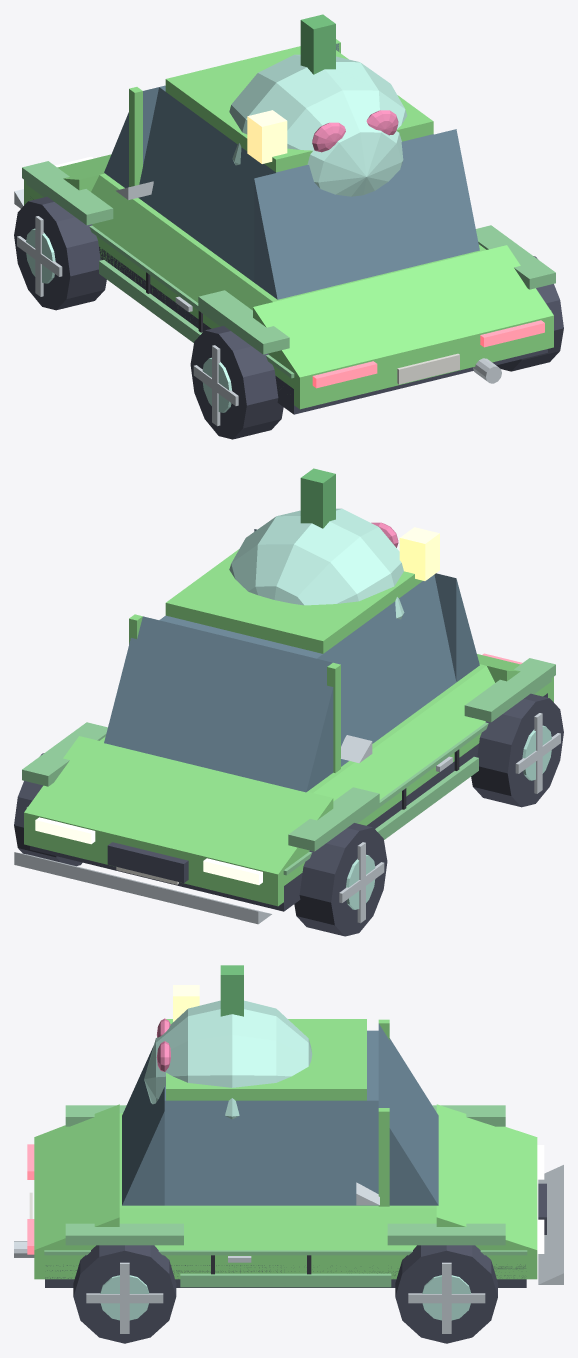
File: pumpkin_pacer.glb
3 views of the same model, one above another, from view 1: azimuth 30°, elevation 25°; view 2: azimuth 150°, elevation 25°; view 3: azimuth 270°, elevation 25° (orthographic). The views are drawn at different scales.
Visible parts, largest first — view 1: RearWindow.221, Tail.122, Fruit.004, CabinSideL.118, ShoulderL.118, Body.321, Roof.321, Wheel_RL.261, Wheel_FL.261, Arch-1False.177, Arch-1True.177, Sill.317 (+20 smaller); view 2: Windshield.221, Nose.118, CabinSideL.118, Fruit.004, Roof.321, ShoulderL.118, Body.321, Wheel_FL.261, Wheel_RL.261, Bumper.317, Arch-1True.177, Arch-1False.177 (+19 smaller); view 3: CabinSideR.118, Nose.118, Fruit.004, ShoulderR.118, Tail.122, Roof.321, Windshield.221, Body.321, Wheel_RR.261, Wheel_FR.261, RearWindow.221, SideSkirt1.217 (+18 smaller).
Boxes of the visible parts, bbox=[...] form: RearWindow.221: bbox=[254, 129, 479, 299]; Tail.122: bbox=[253, 245, 553, 377]; Fruit.004: bbox=[229, 54, 407, 196]; CabinSideL.118: bbox=[138, 87, 275, 282]; ShoulderL.118: bbox=[91, 175, 272, 310]; Body.321: bbox=[24, 180, 553, 409]; Roof.321: bbox=[165, 46, 433, 172]; Wheel_RL.261: bbox=[190, 326, 283, 439]; Wheel_FL.261: bbox=[14, 196, 106, 310]; Arch-1False.177: bbox=[22, 161, 113, 225]; Arch-1True.177: bbox=[198, 290, 289, 354]; Sill.317: bbox=[33, 199, 547, 414]; Windshield.221: bbox=[104, 616, 333, 792]; Nose.118: bbox=[24, 736, 333, 874]; CabinSideL.118: bbox=[317, 574, 456, 766]; Fruit.004: bbox=[229, 508, 404, 619]; Roof.321: bbox=[165, 549, 422, 653]; ShoulderL.118: bbox=[313, 666, 494, 801]; Body.321: bbox=[24, 677, 553, 906]; Wheel_FL.261: bbox=[294, 823, 387, 936]; Wheel_RL.261: bbox=[471, 693, 563, 807]; Bumper.317: bbox=[14, 852, 271, 924]; Arch-1True.177: bbox=[464, 658, 555, 722]; Arch-1False.177: bbox=[288, 787, 379, 851]; CabinSideR.118: bbox=[164, 1100, 378, 1205]; Nose.118: bbox=[436, 1104, 537, 1250]; Fruit.004: bbox=[144, 1000, 312, 1119]; ShoulderR.118: bbox=[119, 1208, 436, 1250]; Tail.122: bbox=[34, 1104, 119, 1250]; Roof.321: bbox=[166, 1019, 366, 1100]; Windshield.221: bbox=[378, 1023, 438, 1205]; Body.321: bbox=[34, 1250, 537, 1279]; Wheel_RR.261: bbox=[73, 1245, 176, 1343]; Wheel_FR.261: bbox=[395, 1245, 497, 1343]; RearWindow.221: bbox=[122, 1046, 164, 1205]; SideSkirt1.217: bbox=[180, 1273, 391, 1287].
Bounding box in the file's own units: 3.2 × 3.13 × 5.14.
